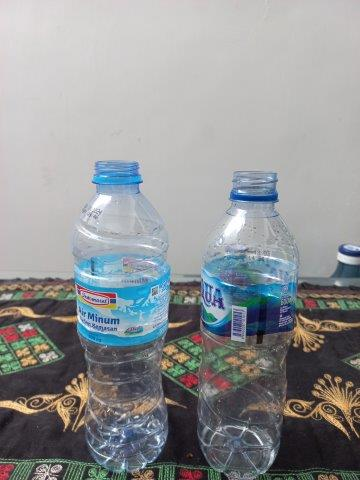botolplastik: (197, 171, 300, 480), (72, 160, 169, 470)
